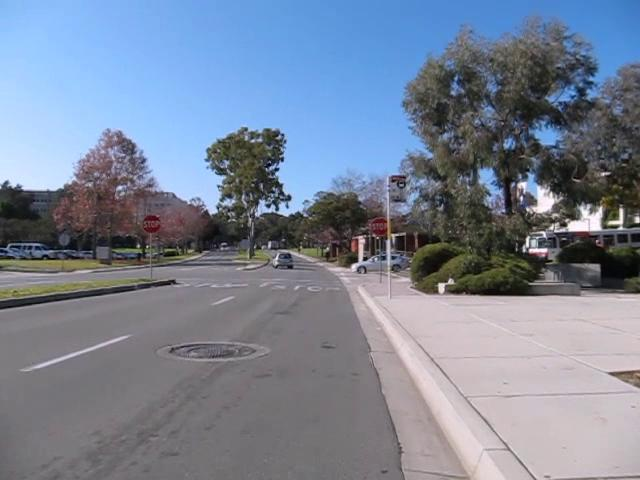stop: (141, 213, 162, 234)
